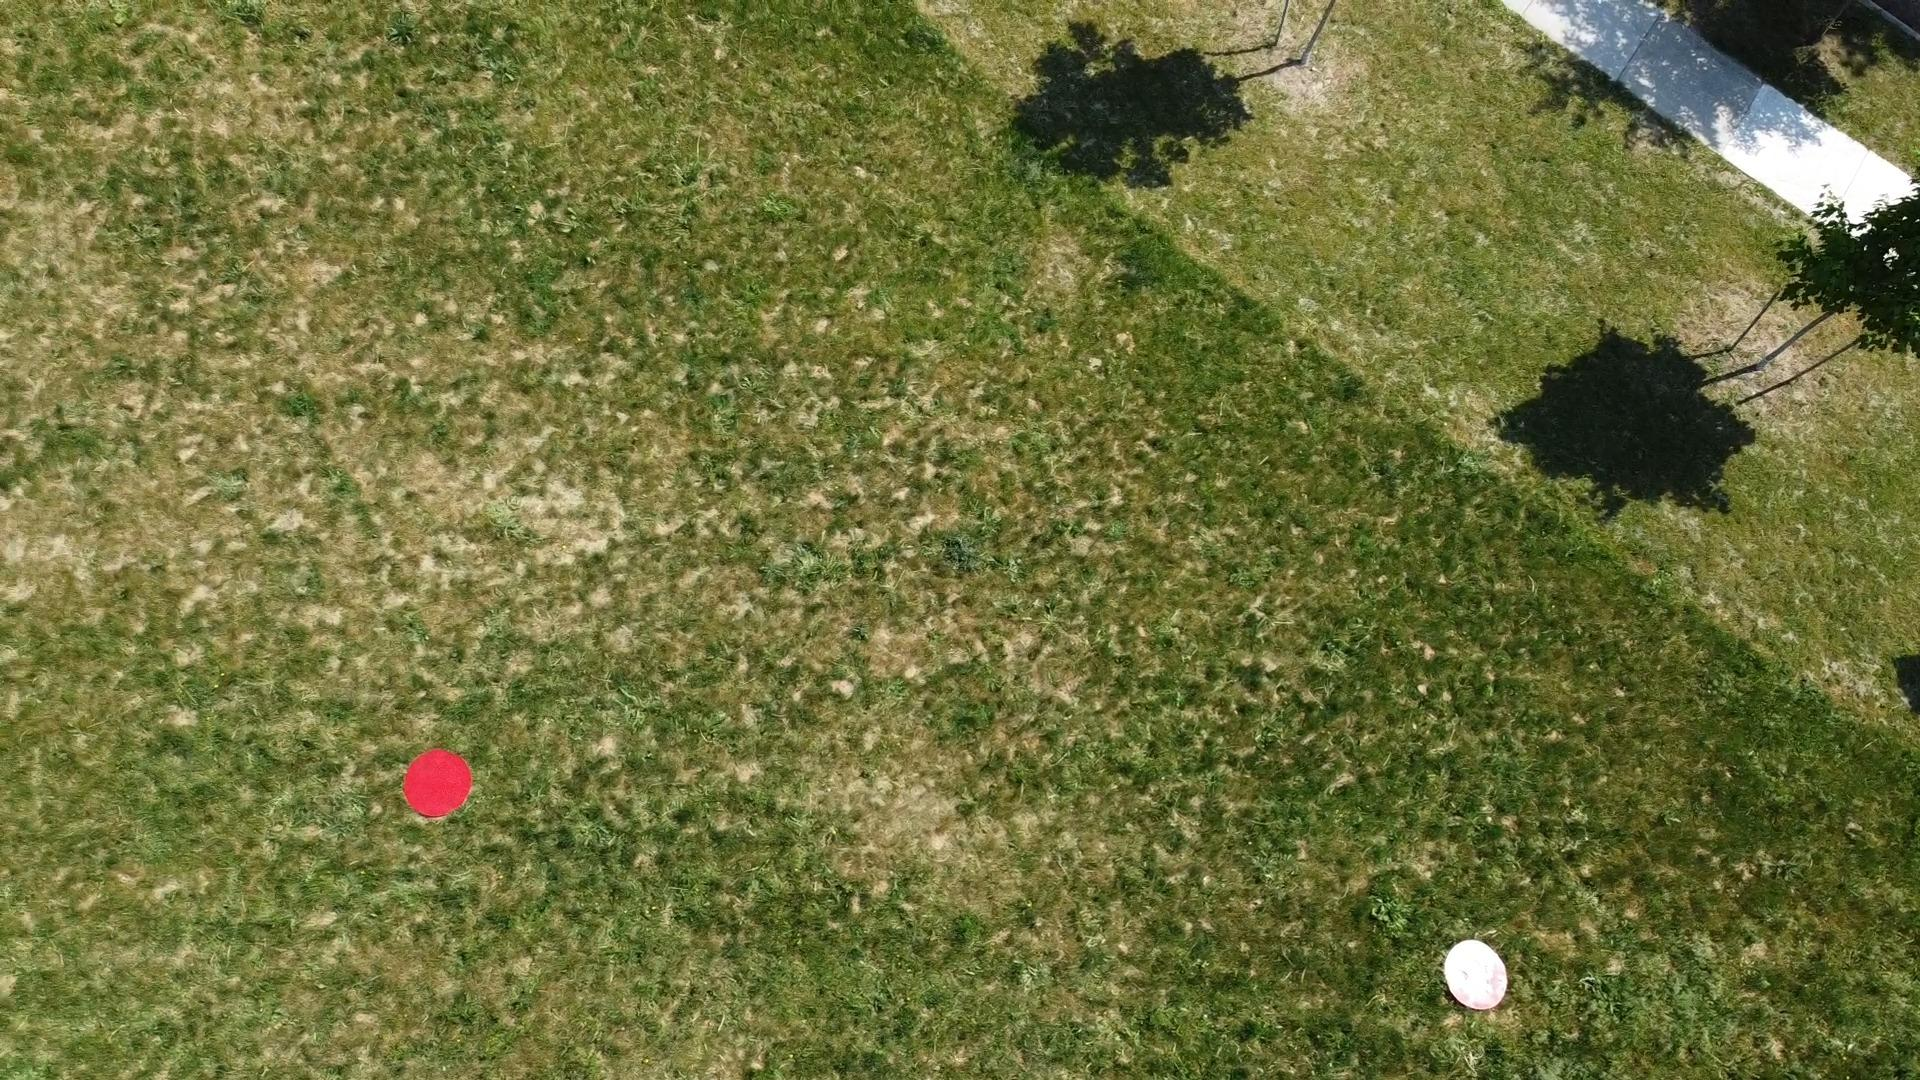Red: (401, 746, 477, 823), (1441, 935, 1510, 1014)
